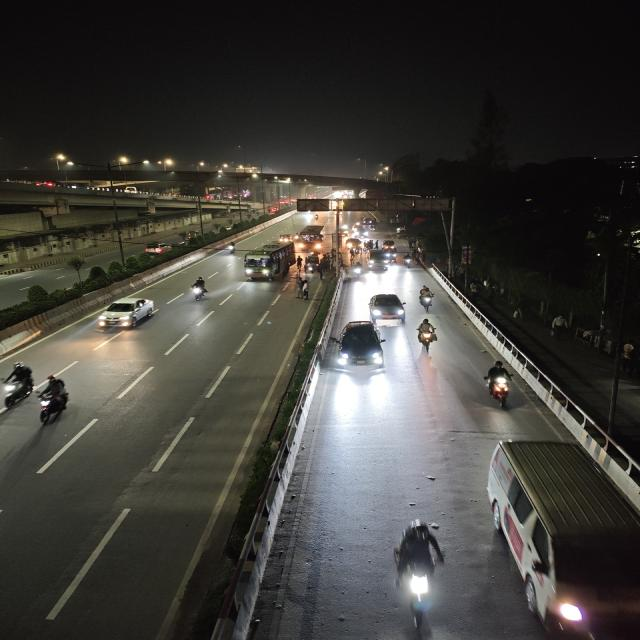bus: (242, 242, 295, 284), (296, 223, 327, 253)
car: (482, 435, 640, 640), (334, 317, 385, 377), (92, 295, 160, 334), (366, 290, 408, 326), (141, 240, 174, 256)
cng: (306, 254, 322, 276), (276, 231, 297, 245), (382, 239, 398, 251)
motorcycle: (388, 516, 448, 638), (33, 372, 77, 428), (0, 359, 36, 417), (481, 358, 518, 410), (415, 315, 440, 353), (184, 275, 212, 305), (416, 284, 439, 314), (352, 262, 365, 282), (223, 240, 238, 256), (403, 254, 412, 269)
pedestrian: (297, 276, 311, 301), (296, 253, 304, 274), (348, 248, 357, 261)
truck: (366, 248, 392, 272)
